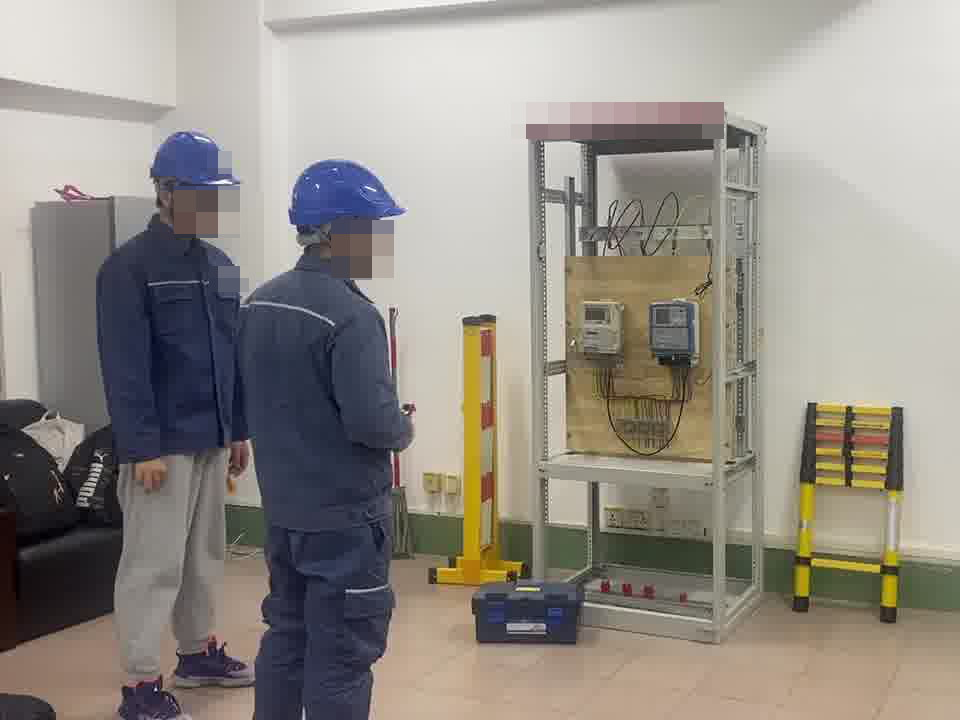downcloth: (111, 451, 230, 678)
downsuit: (244, 530, 396, 720)
halt: (284, 157, 409, 276), (148, 129, 241, 238)
hand: (136, 454, 170, 498), (227, 440, 251, 478)
inear: (320, 219, 362, 262), (155, 180, 182, 216)
person: (239, 154, 422, 719), (91, 126, 243, 711)
upsuit: (242, 265, 408, 525), (97, 232, 239, 465)
